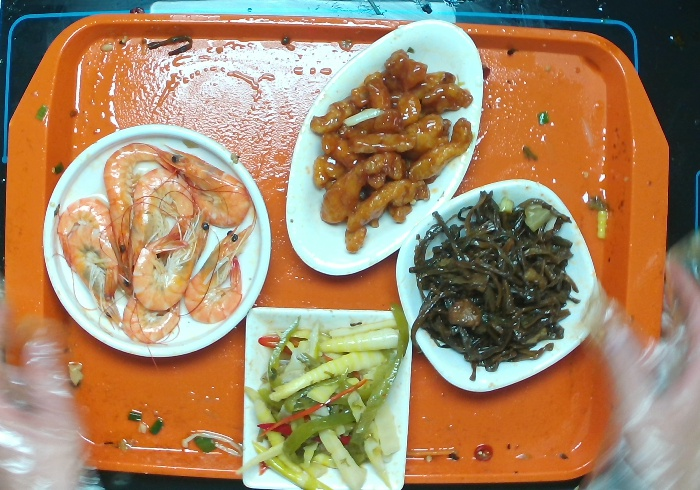HZYJPL-Si_Fang_Die: (233, 298, 416, 487)
HZYJPL-Si_Fang_Yuan_Die: (385, 174, 610, 398)
HZYJPL-Xiao_Yu_Die: (280, 15, 492, 280)
HZYJPL-Xiao_Yuan_Die: (40, 116, 281, 364)
